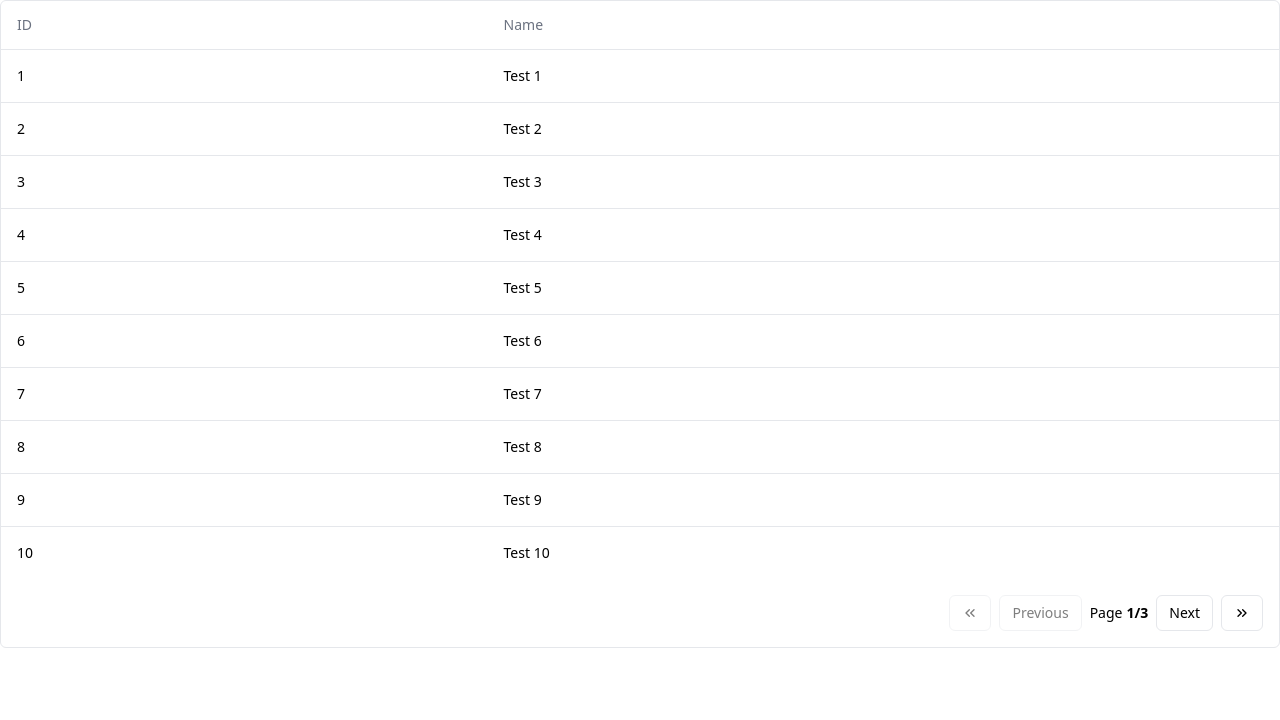
Scenario: DataTable › enables/disables first/last page buttons correctly
This screenshot has width=1280, height=720.
Expected: the button named "first page" is disabled, [950,594,992,630]
Click the button named "last page": (1242, 612) [1221,594,1263,630]
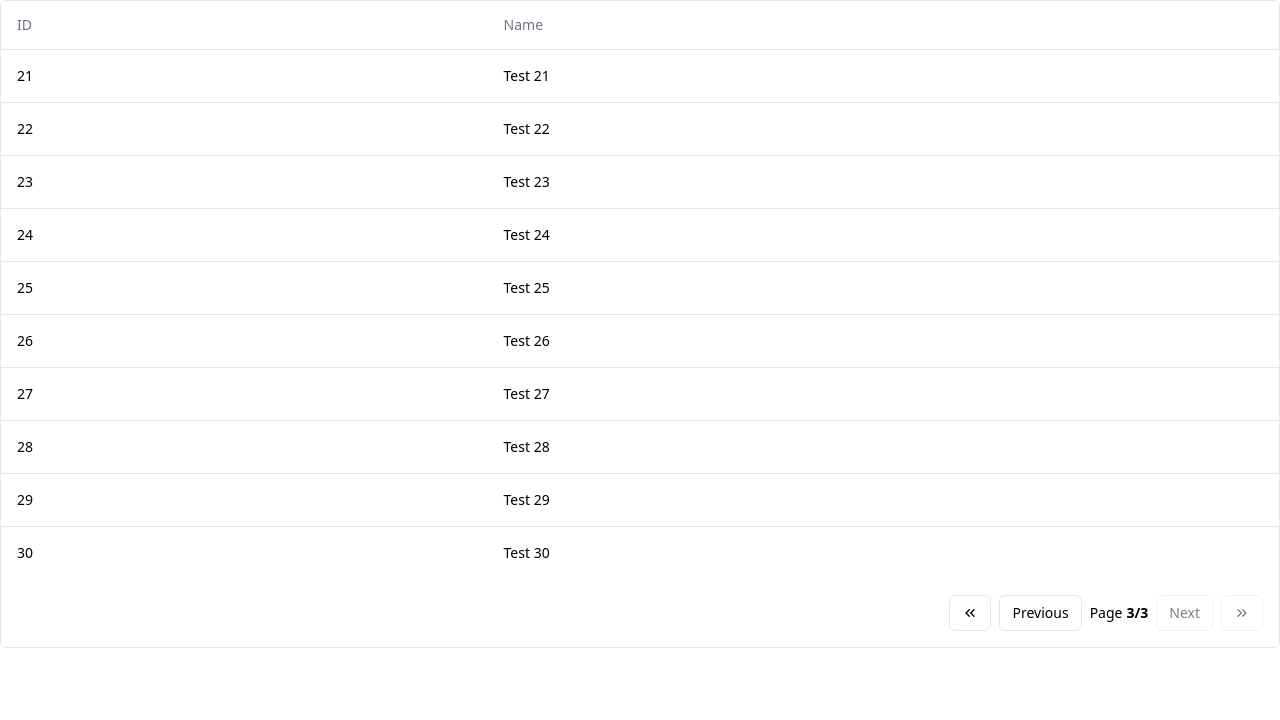
Result: the button named "first page" is enabled at [950,594,992,630]
Result: the button named "last page" is disabled at [1221,594,1263,630]
